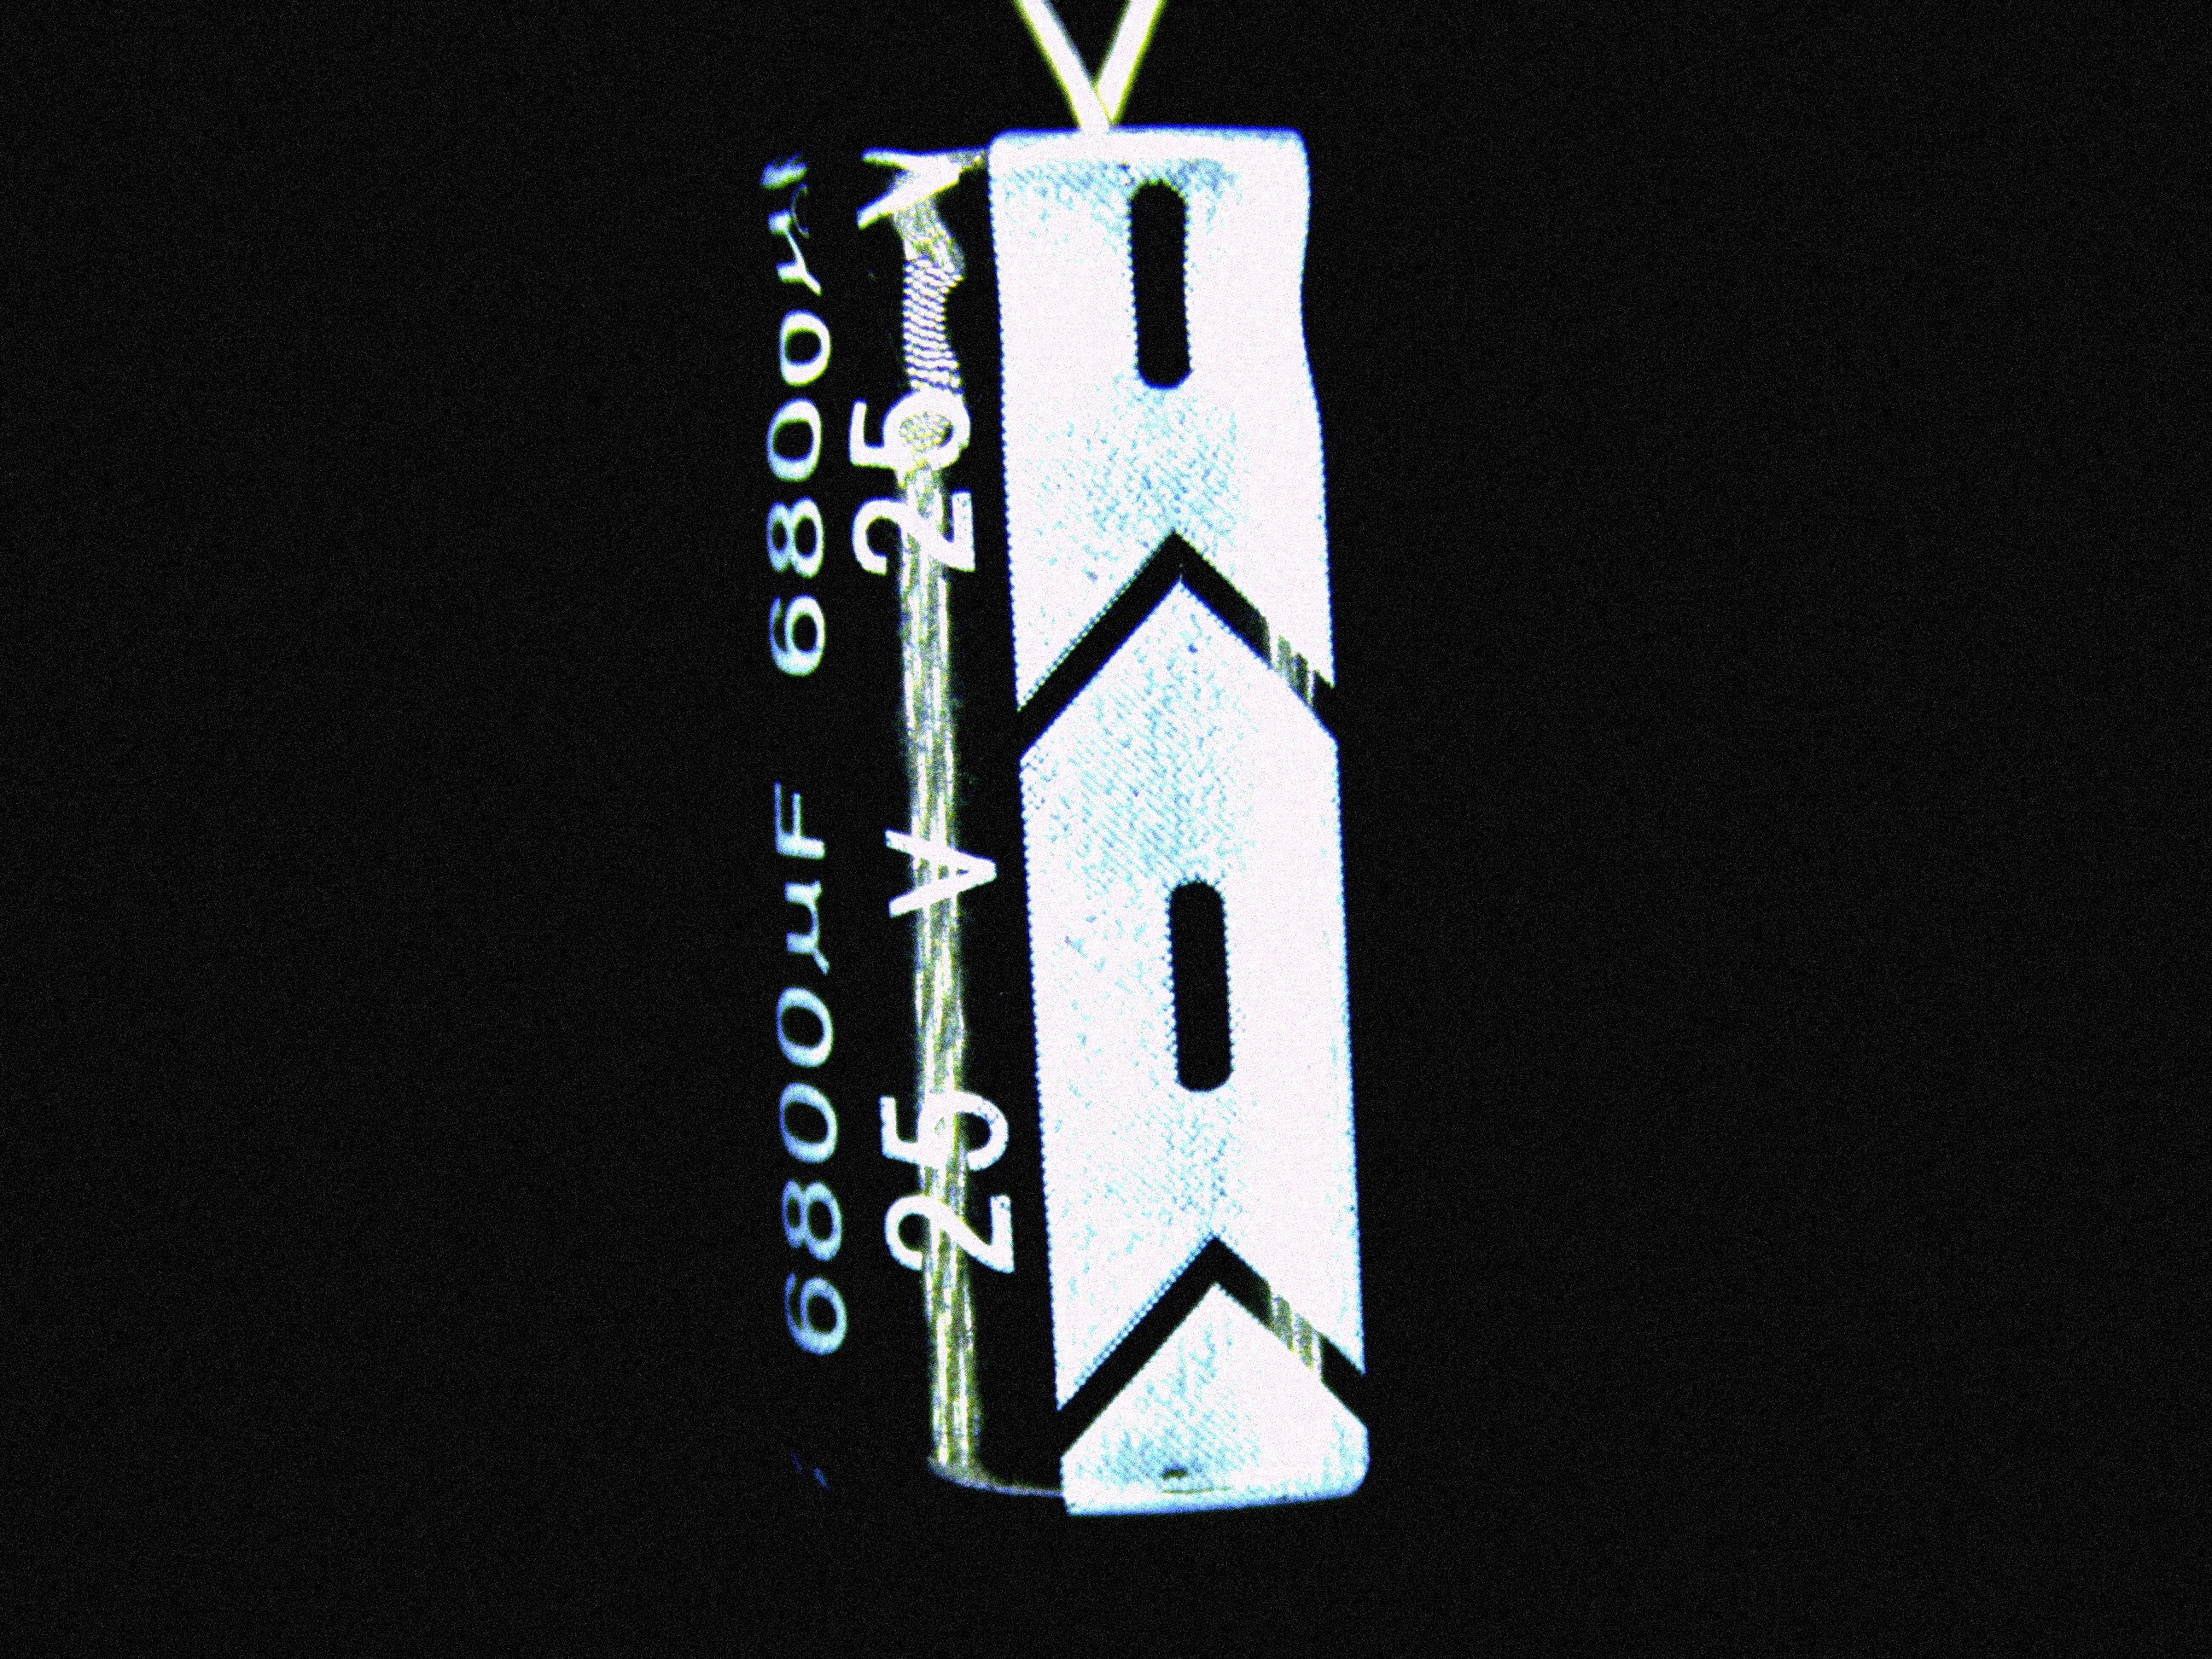c3: (745, 49, 1465, 1516)
